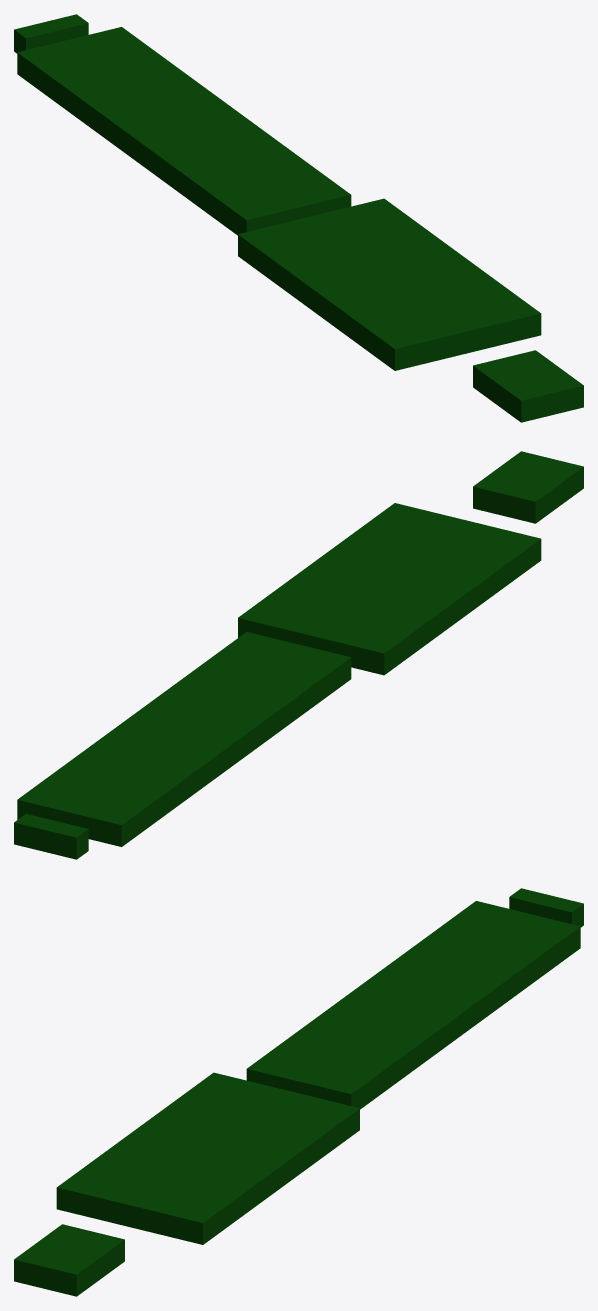
The model's file is Sleep Pod 6.obj.
3 renders of one model, top to bottom at view 1: azimuth 30°, elevation 25°; view 2: azimuth 150°, elevation 25°; view 3: azimuth 330°, elevation 25°, orthographic.
Size of the model in its own units: 7 by 1 by 42.
Materials: 1 (1 with a texture image).
